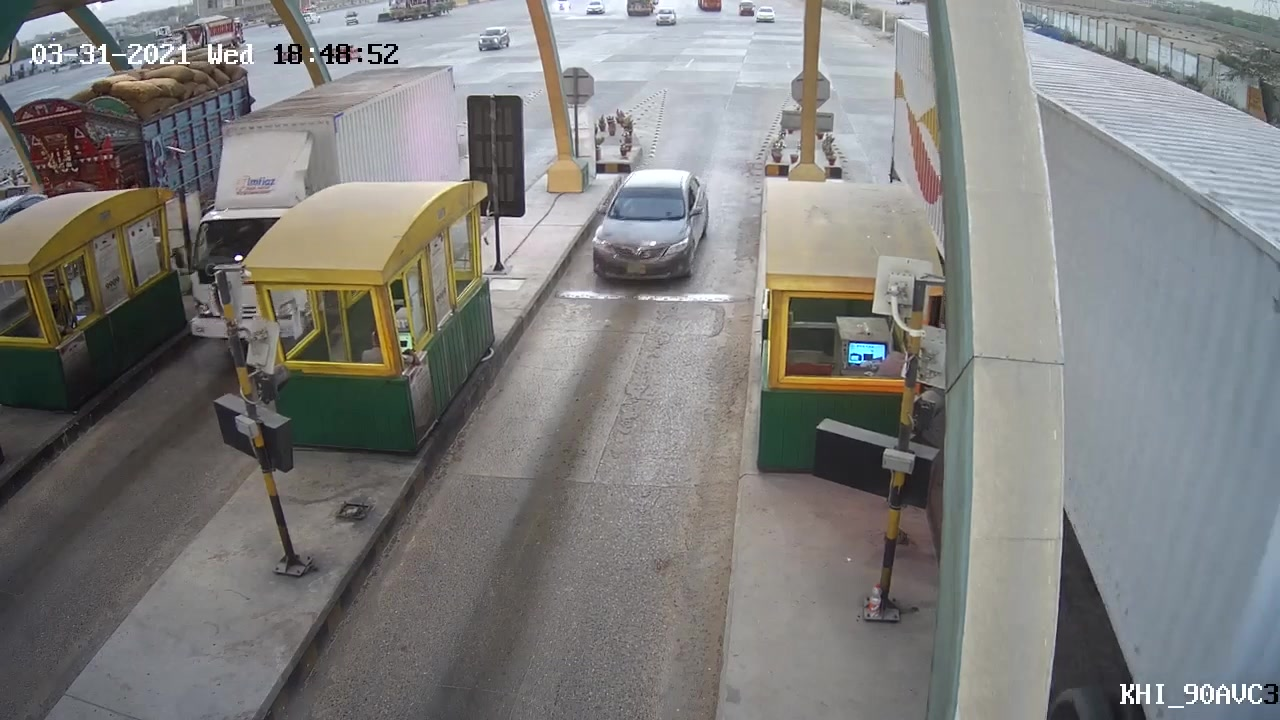F1: (580, 165, 720, 292)
